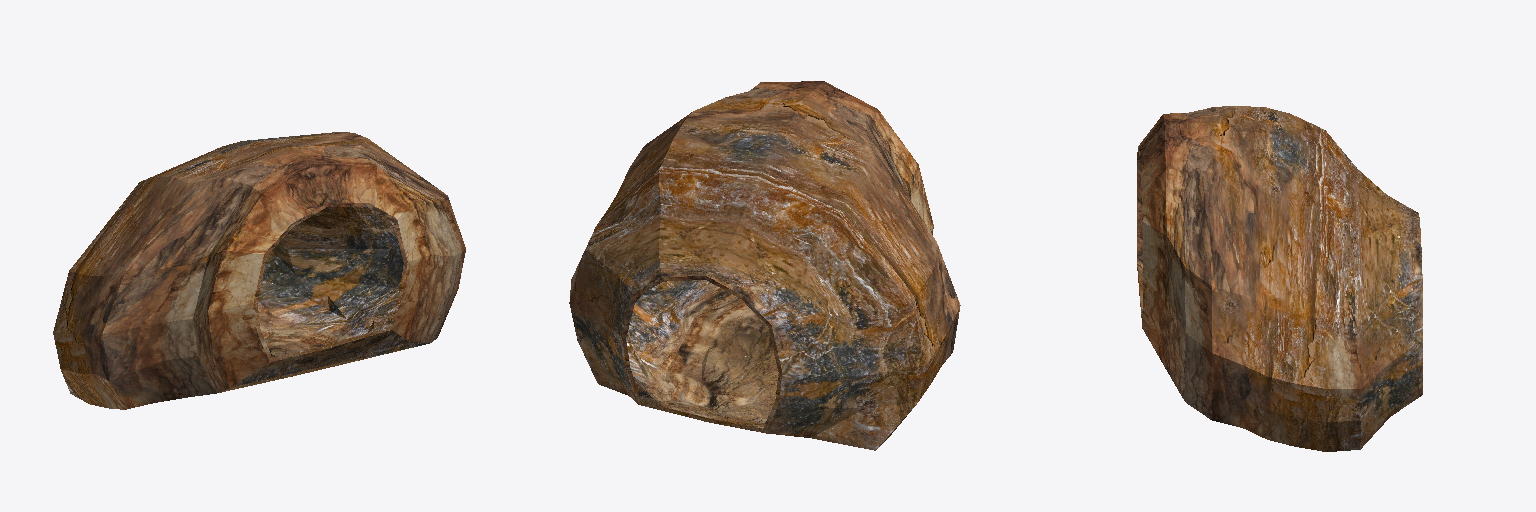
3 views of the same model, side by side, from view 1: azimuth 30°, elevation 25°; view 2: azimuth 150°, elevation 25°; view 3: azimuth 270°, elevation 25° (orthographic).
Visible parts, largest first — view 1: caveramp2; view 2: caveramp2; view 3: caveramp2.
Part boxes in pixels (x1,y1,x2,y2): caveramp2: (53, 132, 465, 409); caveramp2: (569, 81, 960, 450); caveramp2: (1137, 106, 1422, 451).
Bounding box in the file's own units: 2580 × 1811 × 1774.
Materials: 1 (1 with a texture image).